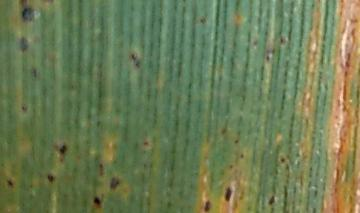tarspot: (19, 5, 38, 25), (16, 34, 31, 54), (222, 184, 235, 204), (55, 143, 71, 159), (96, 160, 108, 178), (3, 176, 18, 190), (91, 196, 107, 209), (109, 176, 122, 192), (203, 198, 215, 213), (45, 171, 56, 186), (29, 66, 41, 79), (266, 194, 277, 207), (141, 139, 153, 150), (20, 103, 30, 115), (127, 51, 138, 61), (278, 155, 288, 166), (278, 36, 289, 46), (238, 152, 247, 161), (264, 55, 274, 63), (227, 163, 235, 171), (134, 63, 141, 71), (233, 138, 240, 145)
